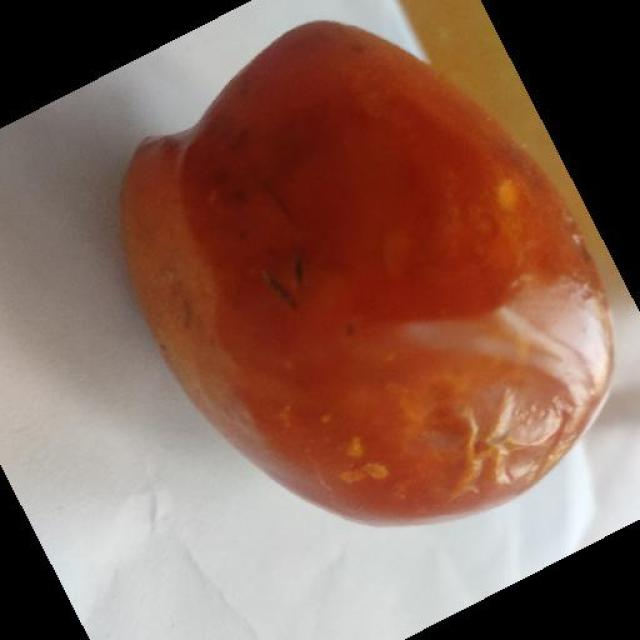Stale_tomato: (138, 34, 618, 514)
